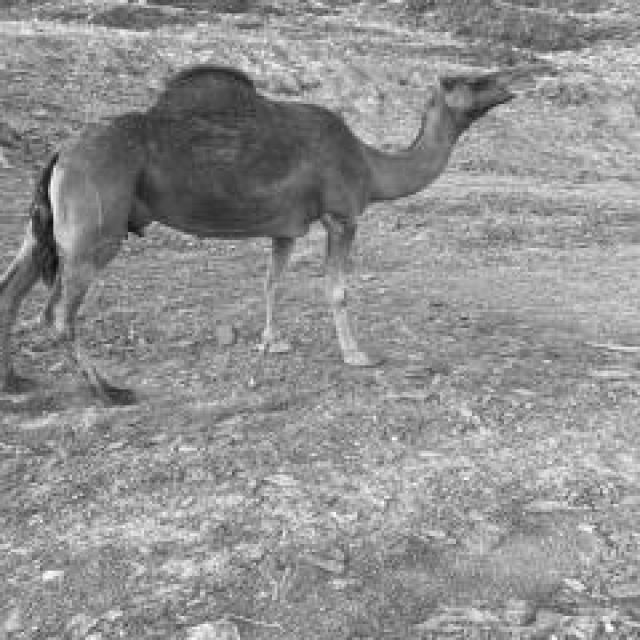Camel: (0, 59, 539, 405)
